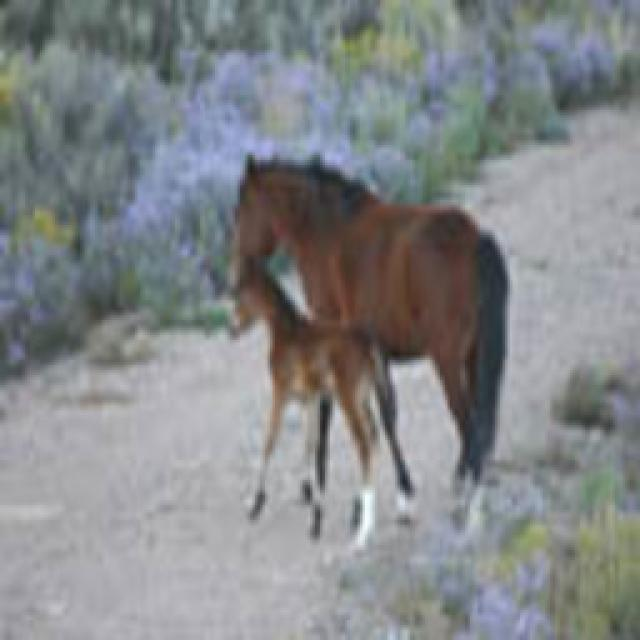Horse: (226, 153, 524, 518), (224, 259, 435, 544)
